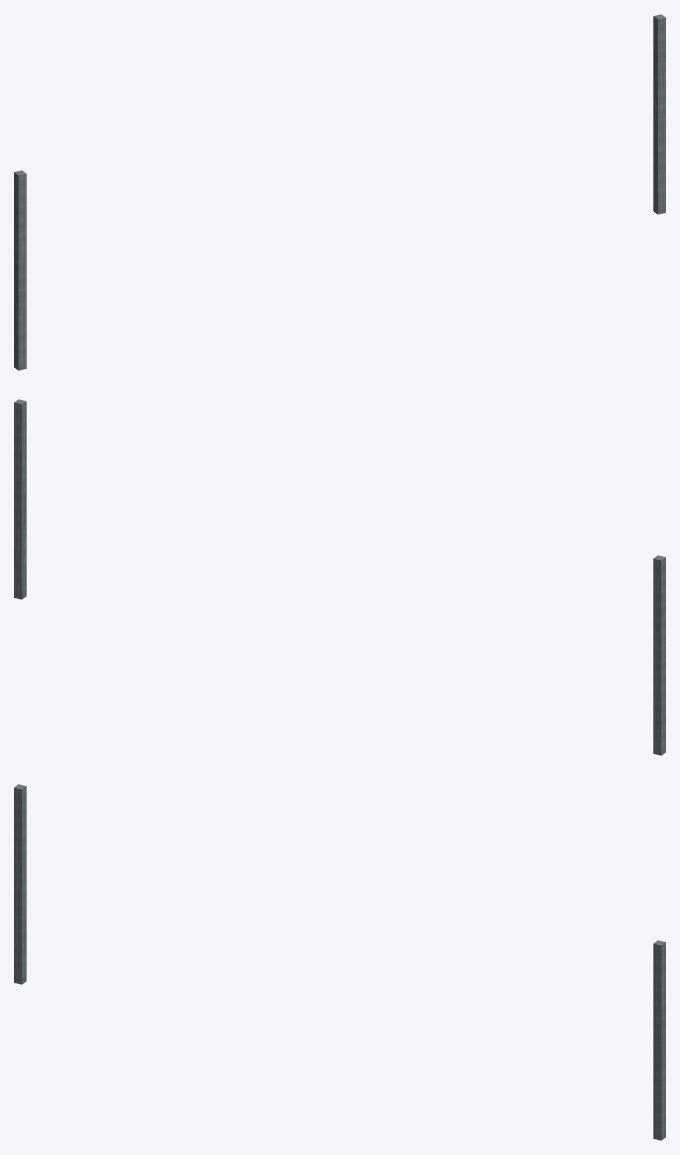
The model's file is fork_pass_posts_01.glb.
3 views of the same model, one above another, from view 1: azimuth 30°, elevation 25°; view 2: azimuth 150°, elevation 25°; view 3: azimuth 330°, elevation 25° (orthographic).
Visible parts, largest first — view 1: fork_pass_posts_01; view 2: fork_pass_posts_01; view 3: fork_pass_posts_01.
Part boxes in pixels (bbox=[...]): fork_pass_posts_01: bbox=[14, 14, 665, 370]; fork_pass_posts_01: bbox=[14, 399, 665, 755]; fork_pass_posts_01: bbox=[14, 784, 665, 1140].
Bounding box in the file's own units: 48.6 × 14 × 0.5992.
1 material, 1 textured.
